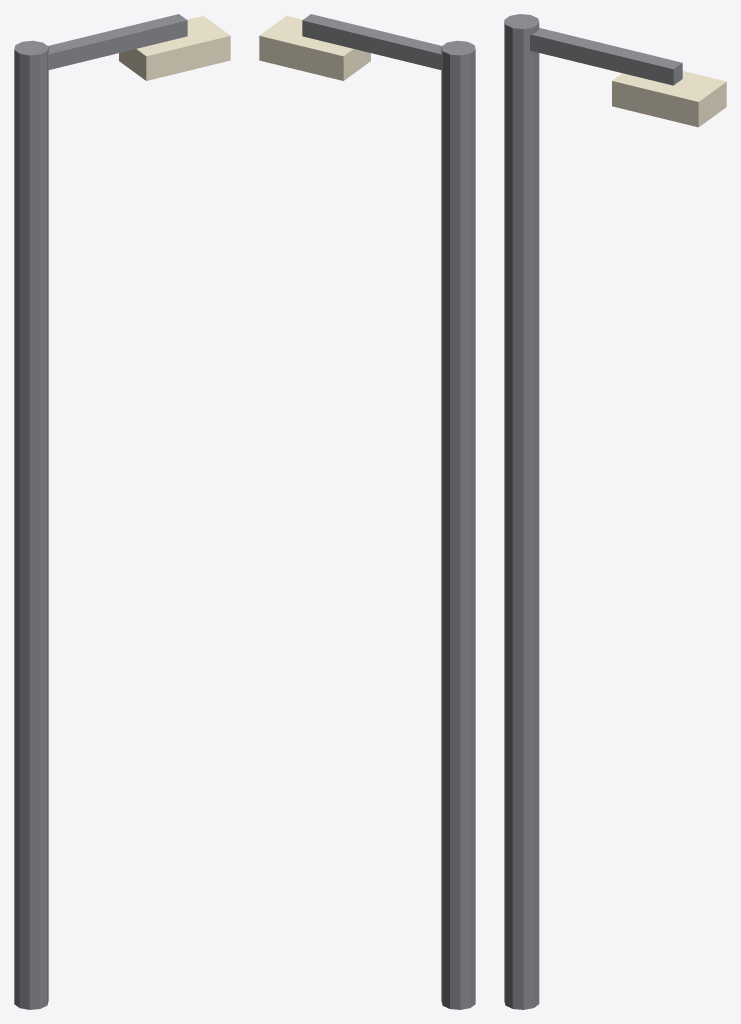
The model's file is lamp.glb.
The picture shows the model from 3 angles, left to right: view 1: azimuth 30°, elevation 25°; view 2: azimuth 150°, elevation 25°; view 3: azimuth 330°, elevation 25°; orthographic projection. The views are drawn at different scales.
Visible parts, largest first — view 1: lamp; view 2: lamp; view 3: lamp.
Boxes of the visible parts, <box> form: lamp: <box>14,14,230,1009</box>; lamp: <box>259,14,475,1009</box>; lamp: <box>504,14,726,1009</box>.
Size of the model in its own units: 1.19 by 5.4 by 0.28.
